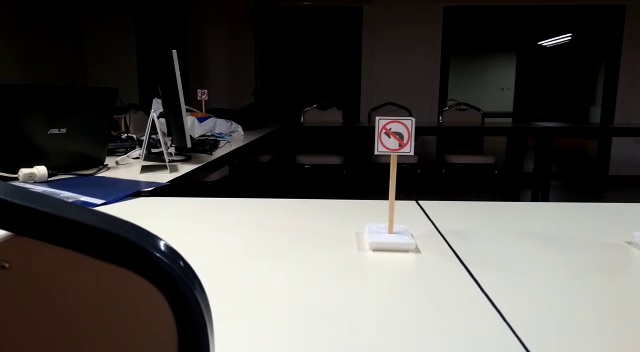sola_donulmez: (376, 117, 415, 155)
